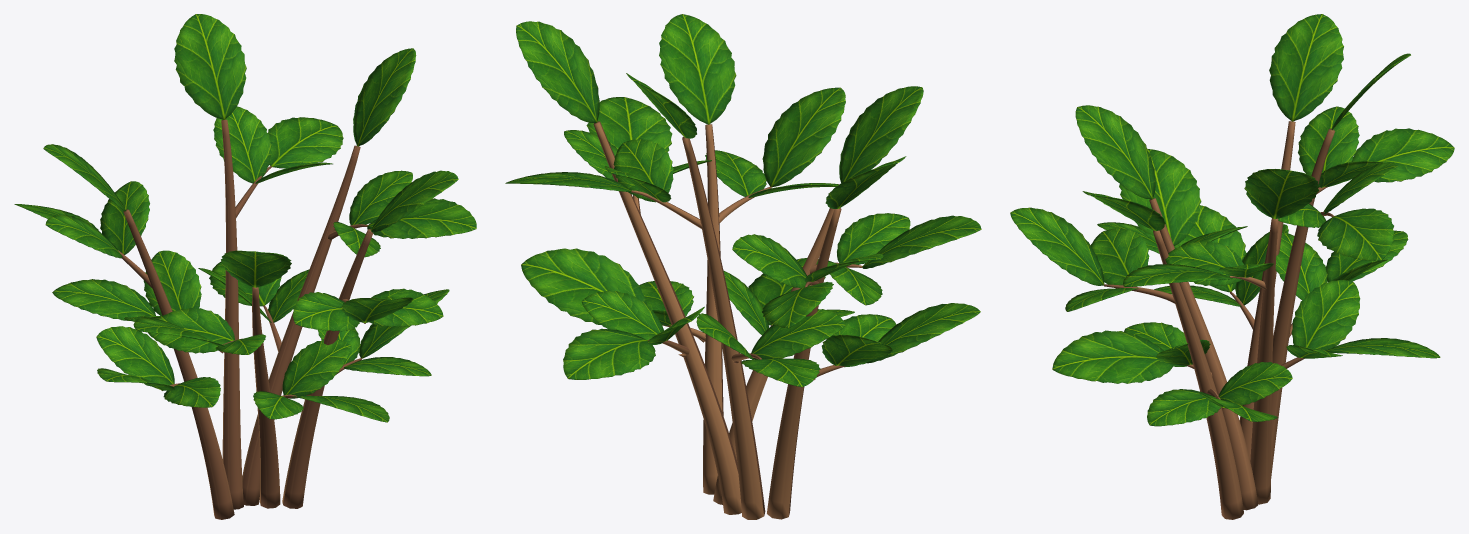
File: NP_Blackberry_Young.fbx
3 views of the same model, side by side, from view 1: azimuth 30°, elevation 25°; view 2: azimuth 150°, elevation 25°; view 3: azimuth 270°, elevation 25° (orthographic). The views are drawn at different scales.
Parts seen in each view (by area): view 1: NP_Blackberry_Young; view 2: NP_Blackberry_Young; view 3: NP_Blackberry_Young.
Part boxes in pixels (x1,y1,x2,y2): NP_Blackberry_Young: (14,14,476,519); NP_Blackberry_Young: (505,14,981,519); NP_Blackberry_Young: (1010,14,1454,519).
Bounding box in the file's own units: 45.81 × 50.4 × 44.64.
